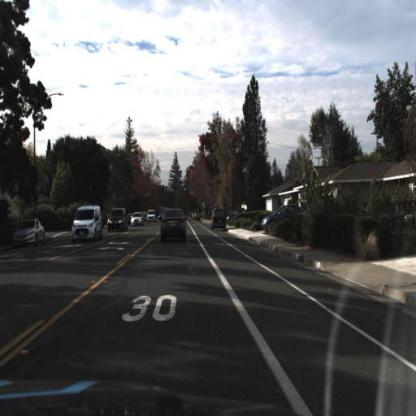car: (157, 204, 189, 245), (68, 203, 102, 240), (259, 204, 304, 231), (12, 219, 46, 249), (104, 206, 129, 234), (209, 204, 229, 231), (130, 210, 144, 226), (146, 209, 156, 223)
trafficLight-Green: (170, 182, 174, 192), (183, 184, 187, 194)
